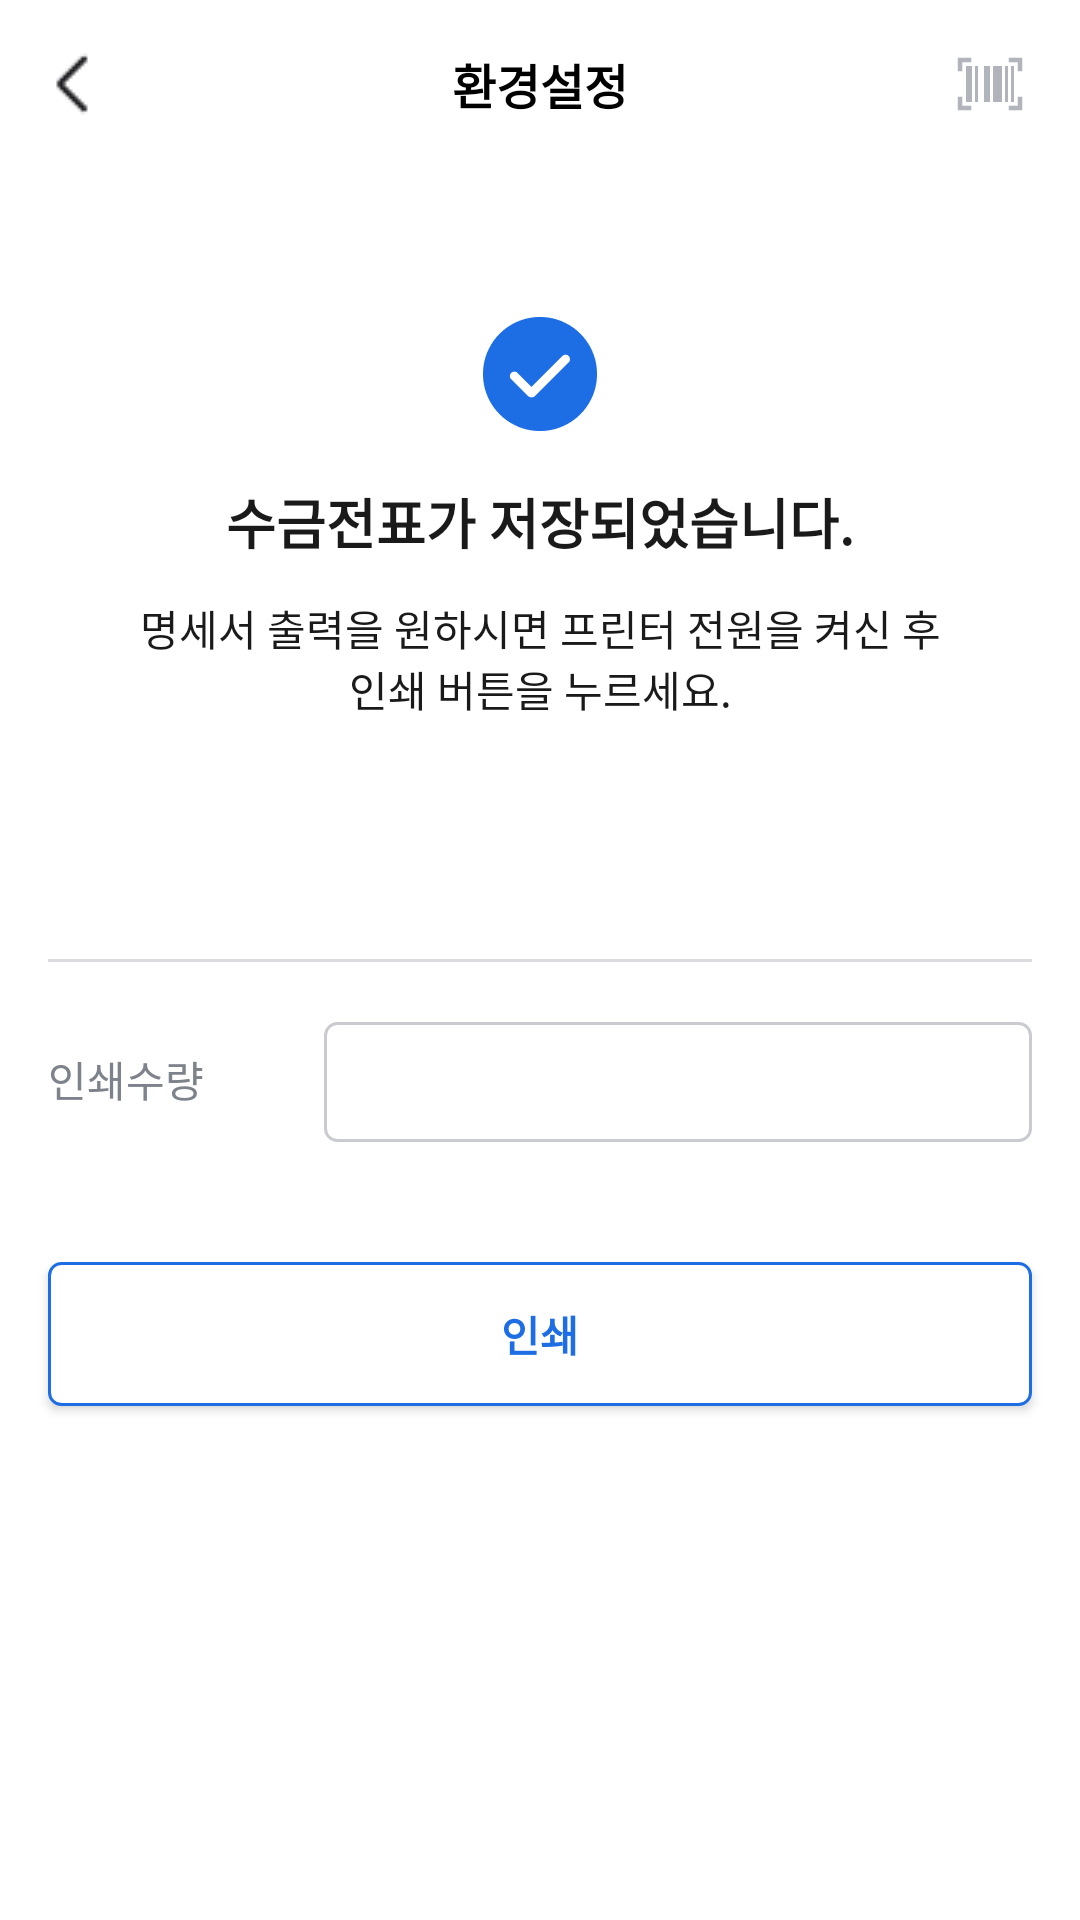

Screen size 1080px x 1920px. Icon name, then its box in pixels as (x1, y1, x2, y2):
arrow back: (56, 55, 88, 113)
check circle: (483, 317, 597, 431)
scan: (958, 58, 1022, 110)
